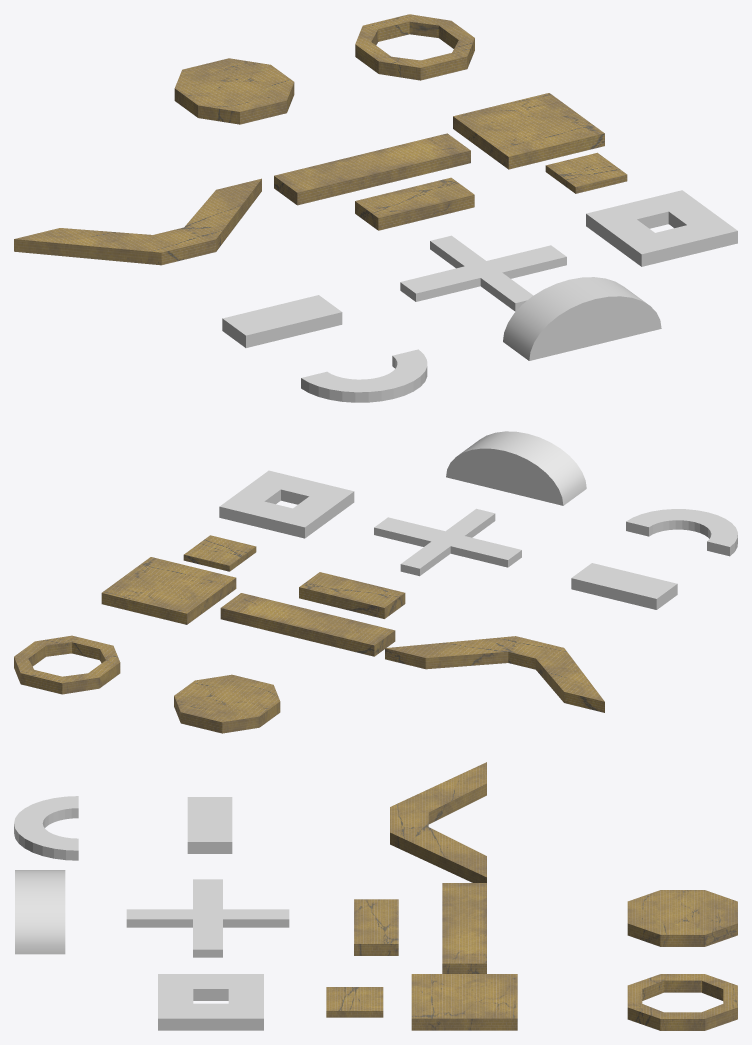
File: stage_preset.fbx
3 renders of one model, top to bottom at view 1: azimuth 30°, elevation 25°; view 2: azimuth 150°, elevation 25°; view 3: azimuth 270°, elevation 25°, orthographic. The views are drawn at different scales.
Visible parts, largest first — view 1: stage_preset.004, stage_preset.010, stage_preset.007, stage_preset, stage_preset.008, stage_preset.011, stage_preset.005, stage_preset.001, stage_preset.003, stage_preset.009, stage_preset.002, stage_preset.006; view 2: stage_preset.004, stage_preset.010, stage_preset.007, stage_preset, stage_preset.008, stage_preset.011, stage_preset.005, stage_preset.001, stage_preset.003, stage_preset.009, stage_preset.002, stage_preset.006; view 3: stage_preset.010, stage_preset.007, stage_preset, stage_preset.011, stage_preset.005, stage_preset.001, stage_preset.004, stage_preset.008, stage_preset.002, stage_preset.003, stage_preset.009, stage_preset.006.
Boxes of the visible parts, x1=… form: stage_preset.004: x1=503, y1=277, x2=661, y2=360; stage_preset.010: x1=14, y1=178, x2=261, y2=265; stage_preset.007: x1=453, y1=93, x2=604, y2=169; stage_preset: x1=586, y1=190, x2=737, y2=266; stage_preset.008: x1=274, y1=133, x2=470, y2=205; stage_preset.011: x1=174, y1=58, x2=294, y2=124; stage_preset.005: x1=400, y1=235, x2=566, y2=311; stage_preset.001: x1=355, y1=14, x2=474, y2=80; stage_preset.003: x1=222, y1=295, x2=342, y2=347; stage_preset.009: x1=355, y1=177, x2=474, y2=230; stage_preset.002: x1=301, y1=349, x2=427, y2=402; stage_preset.006: x1=545, y1=152, x2=627, y2=193; stage_preset.004: x1=446, y1=431, x2=586, y2=505; stage_preset.010: x1=385, y1=636, x2=604, y2=712; stage_preset.007: x1=101, y1=557, x2=236, y2=624; stage_preset: x1=219, y1=470, x2=354, y2=538; stage_preset.008: x1=220, y1=593, x2=395, y2=656; stage_preset.011: x1=174, y1=674, x2=280, y2=733; stage_preset.005: x1=374, y1=508, x2=521, y2=576; stage_preset.001: x1=14, y1=635, x2=120, y2=694; stage_preset.003: x1=571, y1=563, x2=677, y2=609; stage_preset.009: x1=299, y1=572, x2=405, y2=618; stage_preset.002: x1=626, y1=509, x2=737, y2=556; stage_preset.006: x1=183, y1=535, x2=256, y2=571; stage_preset.010: x1=390, y1=762, x2=486, y2=882; stage_preset.007: x1=411, y1=974, x2=517, y2=1030; stage_preset: x1=158, y1=974, x2=263, y2=1030; stage_preset.011: x1=627, y1=890, x2=737, y2=946; stage_preset.005: x1=126, y1=879, x2=289, y2=957; stage_preset.001: x1=627, y1=974, x2=737, y2=1030; stage_preset.004: x1=15, y1=870, x2=65, y2=954; stage_preset.008: x1=442, y1=883, x2=486, y2=973; stage_preset.002: x1=14, y1=796, x2=78, y2=860; stage_preset.003: x1=187, y1=797, x2=232, y2=853; stage_preset.009: x1=354, y1=899, x2=398, y2=955; stage_preset.006: x1=326, y1=987, x2=383, y2=1017.
Bounding box in the file's own units: 2416 × 218 × 2877.
